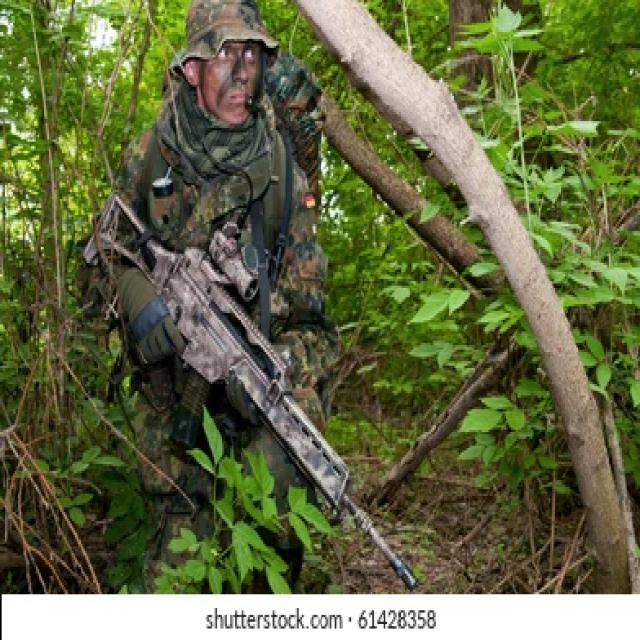soldier: (86, 1, 422, 595)
